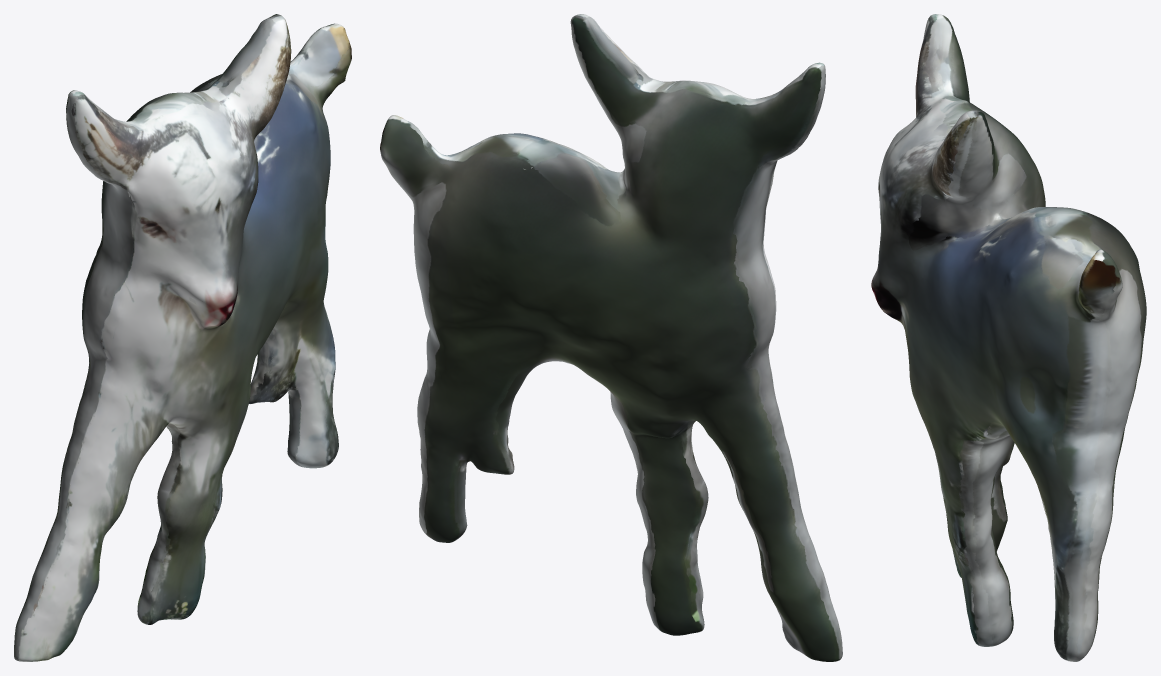
Rendered from bebe.glb.
3 renders of one model, left to right at view 1: azimuth 30°, elevation 25°; view 2: azimuth 150°, elevation 25°; view 3: azimuth 270°, elevation 25°, orthographic.
Visible parts, largest first — view 1: mesh; view 2: mesh; view 3: mesh.
Boxes of the visible parts, left/top/right/bottom form: mesh: left=14, top=14, right=351, bottom=661; mesh: left=380, top=14, right=842, bottom=661; mesh: left=871, top=14, right=1146, bottom=661.
Size of the model in its own units: 1.16 by 1.64 by 0.7103.
Materials: 1 (1 with a texture image).
